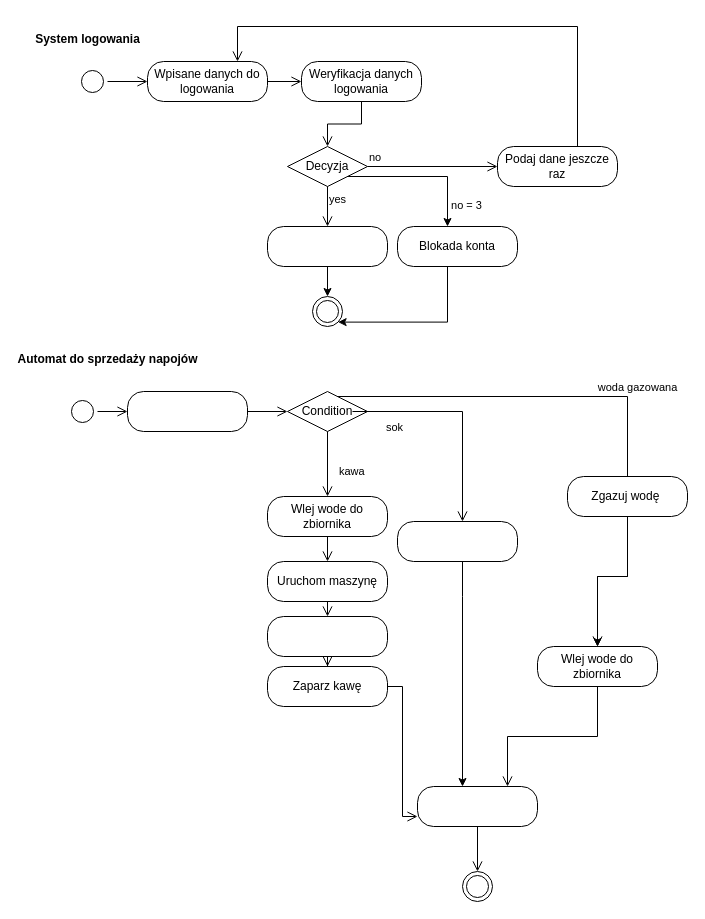
Some shapes in this 705 by 919 pixel diagram are drawn without their labels. Here are the shapes that lost their labels. From the top down, the centre of each, then its label:
the point at 327,246: Zalogowanie się do konta
the point at 187,411: Wybór napoju
the point at 457,541: Wlej sok do zbiornika
the point at 327,636: Podgrzej wodę
the point at 477,806: Odbiór napoju
